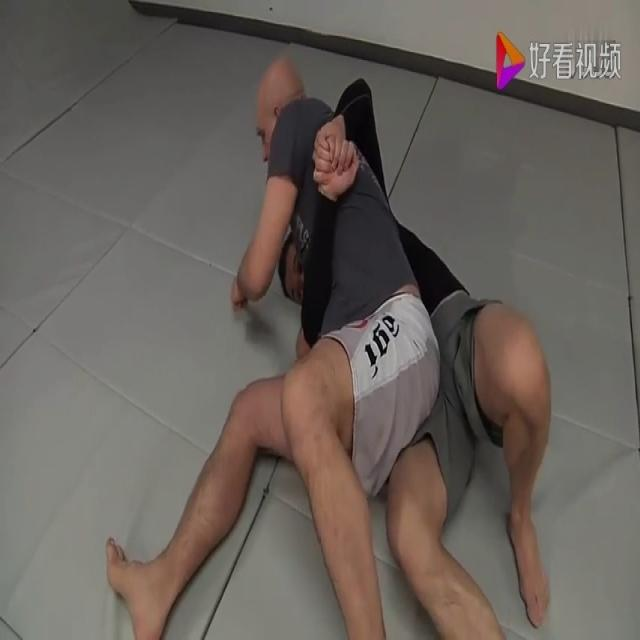fight: (104, 63, 552, 640)
